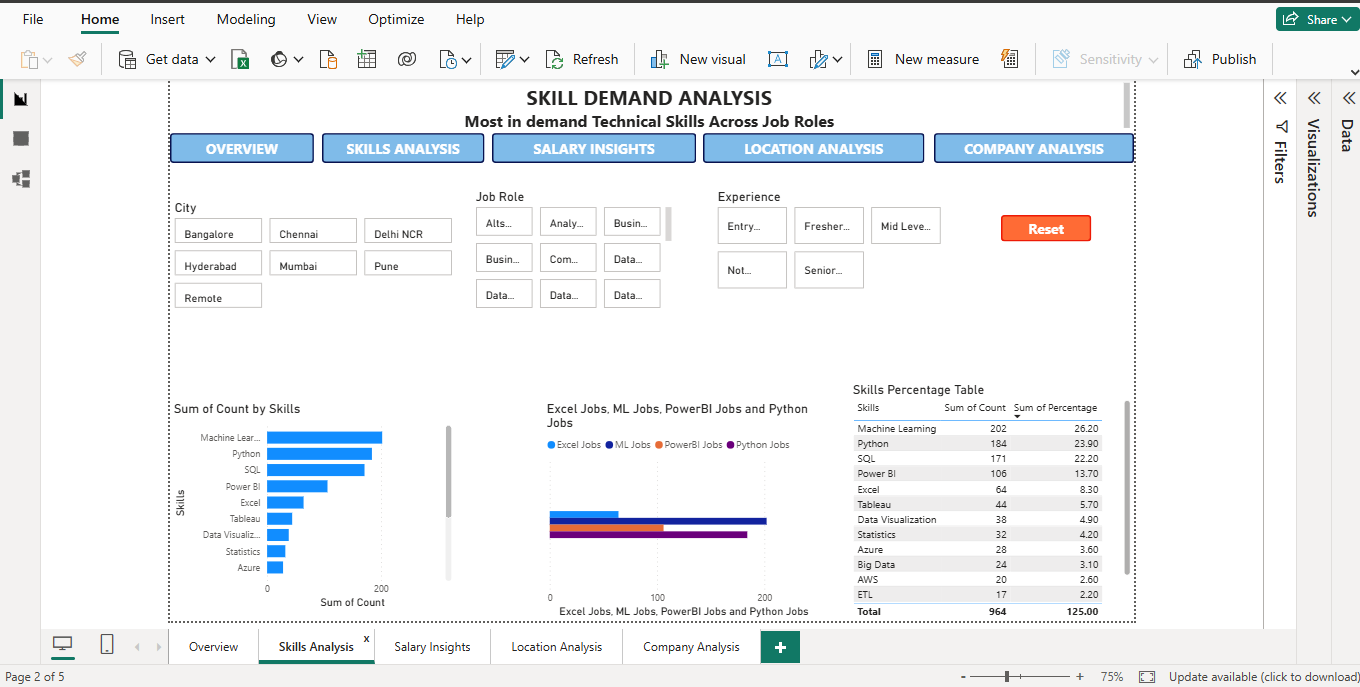

What the dashboard file says about the page in this screenshot:
{"tool":"powerbi","page":{"name":"Skills Analysis","canvas":[1280,720],"ordinal":1},"visuals":[{"type":"clusteredBarChart","fields":{"Y":["cleaned_jobs.Excel Jobs","cleaned_jobs.ML Jobs","cleaned_jobs.PowerBI Jobs","cleaned_jobs.Python Jobs"]},"box":[496.1,427.3,380.5,292.7],"z":0},{"type":"advancedSlicerVisual","fields":{"Values":["cleaned_jobs.job_title_clean"]},"box":[401,146.3,270.7,165.4],"z":1000},{"type":"advancedSlicerVisual","fields":{"Values":["cleaned_jobs.primary_city"]},"box":[1.5,161,379,150.7],"z":2000},{"type":"advancedSlicerVisual","fields":{"Values":["cleaned_jobs.experience_level"]},"box":[722.9,146.3,307.3,197.6],"z":3000},{"type":"clusteredBarChart","fields":{"Category":["Skills_Summary.Skills"],"Y":["Sum(Skills_Summary.Count)"]},"box":[0,427.3,379,281],"z":4000},{"type":"tableEx","title":"Skills Percentage Table","fields":{"Values":["Skills_Summary.Skills","Sum(Skills_Summary.Count)","Sum(Skills_Summary.Percentage)"]},"box":[901.5,402.4,379,317.6],"z":5000},{"type":"group","id":"g1","title":"Group 1","box":[0,71.7,1280.5,39.5],"z":6000},{"type":"textbox","box":[0,0,1280.5,71.7],"z":7000},{"type":"actionButton","box":[1103.4,180,120,35.1],"z":8000},{"type":"actionButton","box":[201.4,71.7,215.7,40],"z":9000,"group":"g1"},{"type":"actionButton","box":[427.1,71.7,271.4,40],"z":10000,"group":"g1"},{"type":"actionButton","box":[708.6,71.7,294.3,40],"z":11000,"group":"g1"},{"type":"actionButton","box":[1014.3,71.7,265.7,40],"z":12000,"group":"g1"},{"type":"actionButton","box":[0,71.7,191.4,40],"z":13000,"group":"g1"}]}

Visuals, with their boxes on the page's 1280x720 design canvas (x1, y1, x2, y2). These are canvas units, not pixel positions in the 1360x687 screenshot, which may show the page scaled, cropped or inside an application window:
clusteredBarChart - cleaned_jobs.Excel Jobs x cleaned_jobs.ML Jobs: (496, 427, 877, 720)
advancedSlicerVisual - cleaned_jobs.job_title_clean: (401, 146, 672, 312)
advancedSlicerVisual - cleaned_jobs.primary_city: (2, 161, 380, 312)
advancedSlicerVisual - cleaned_jobs.experience_level: (723, 146, 1030, 344)
clusteredBarChart - Skills_Summary.Skills x Sum(Skills_Summary.Count): (0, 427, 379, 708)
"Skills Percentage Table" tableEx: (902, 402, 1280, 720)
"Group 1" group: (0, 72, 1280, 111)
textbox: (0, 0, 1280, 72)
actionButton: (1103, 180, 1223, 215)
actionButton: (201, 72, 417, 112)
actionButton: (427, 72, 698, 112)
actionButton: (709, 72, 1003, 112)
actionButton: (1014, 72, 1280, 112)
actionButton: (0, 72, 191, 112)
